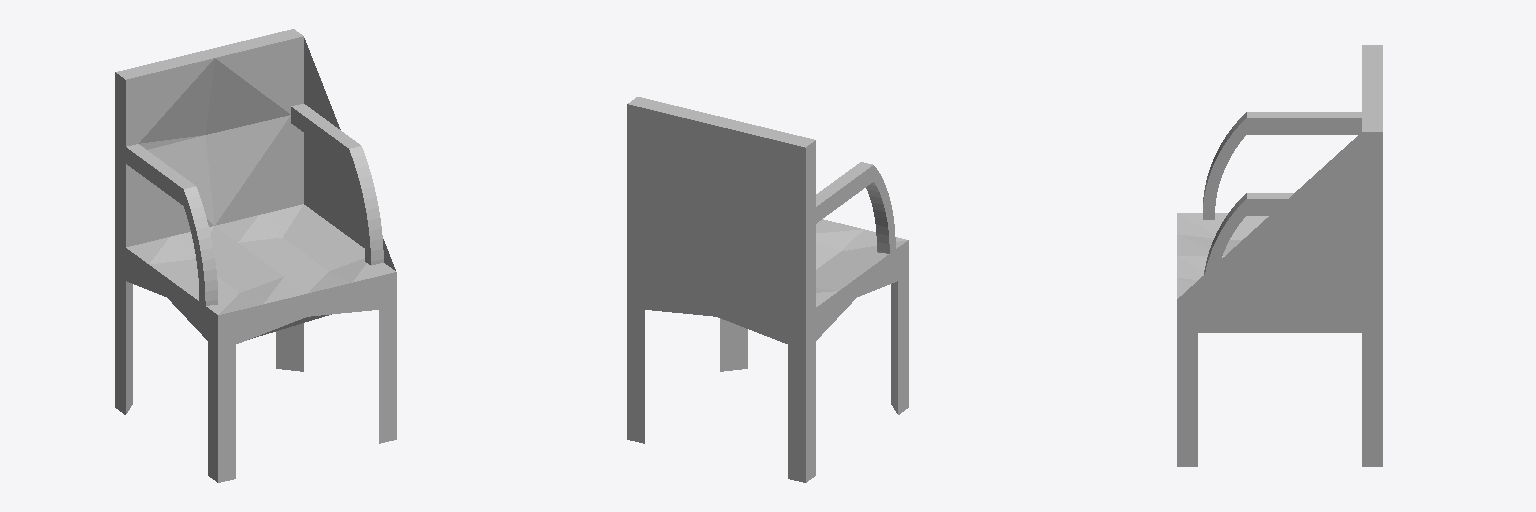
Rendered from silla_ext_1.obj.
3 renders of one model, left to right at view 1: azimuth 30°, elevation 25°; view 2: azimuth 150°, elevation 25°; view 3: azimuth 270°, elevation 25°, orthographic.
Visible parts, largest first — view 1: Cubo.016_Cubo.018; view 2: Cubo.016_Cubo.018; view 3: Cubo.016_Cubo.018.
Part boxes in pixels (x1,y1,x2,y2): Cubo.016_Cubo.018: (115,29,396,482); Cubo.016_Cubo.018: (627,97,908,482); Cubo.016_Cubo.018: (1177,45,1382,466).
Bounding box in the file's own units: 0.5 × 0.9 × 0.5.